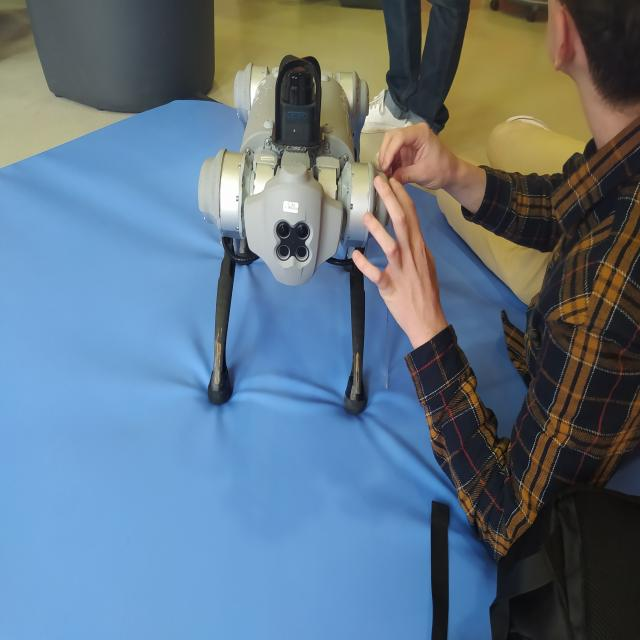unitree-go1-robot: (186, 53, 407, 433)
